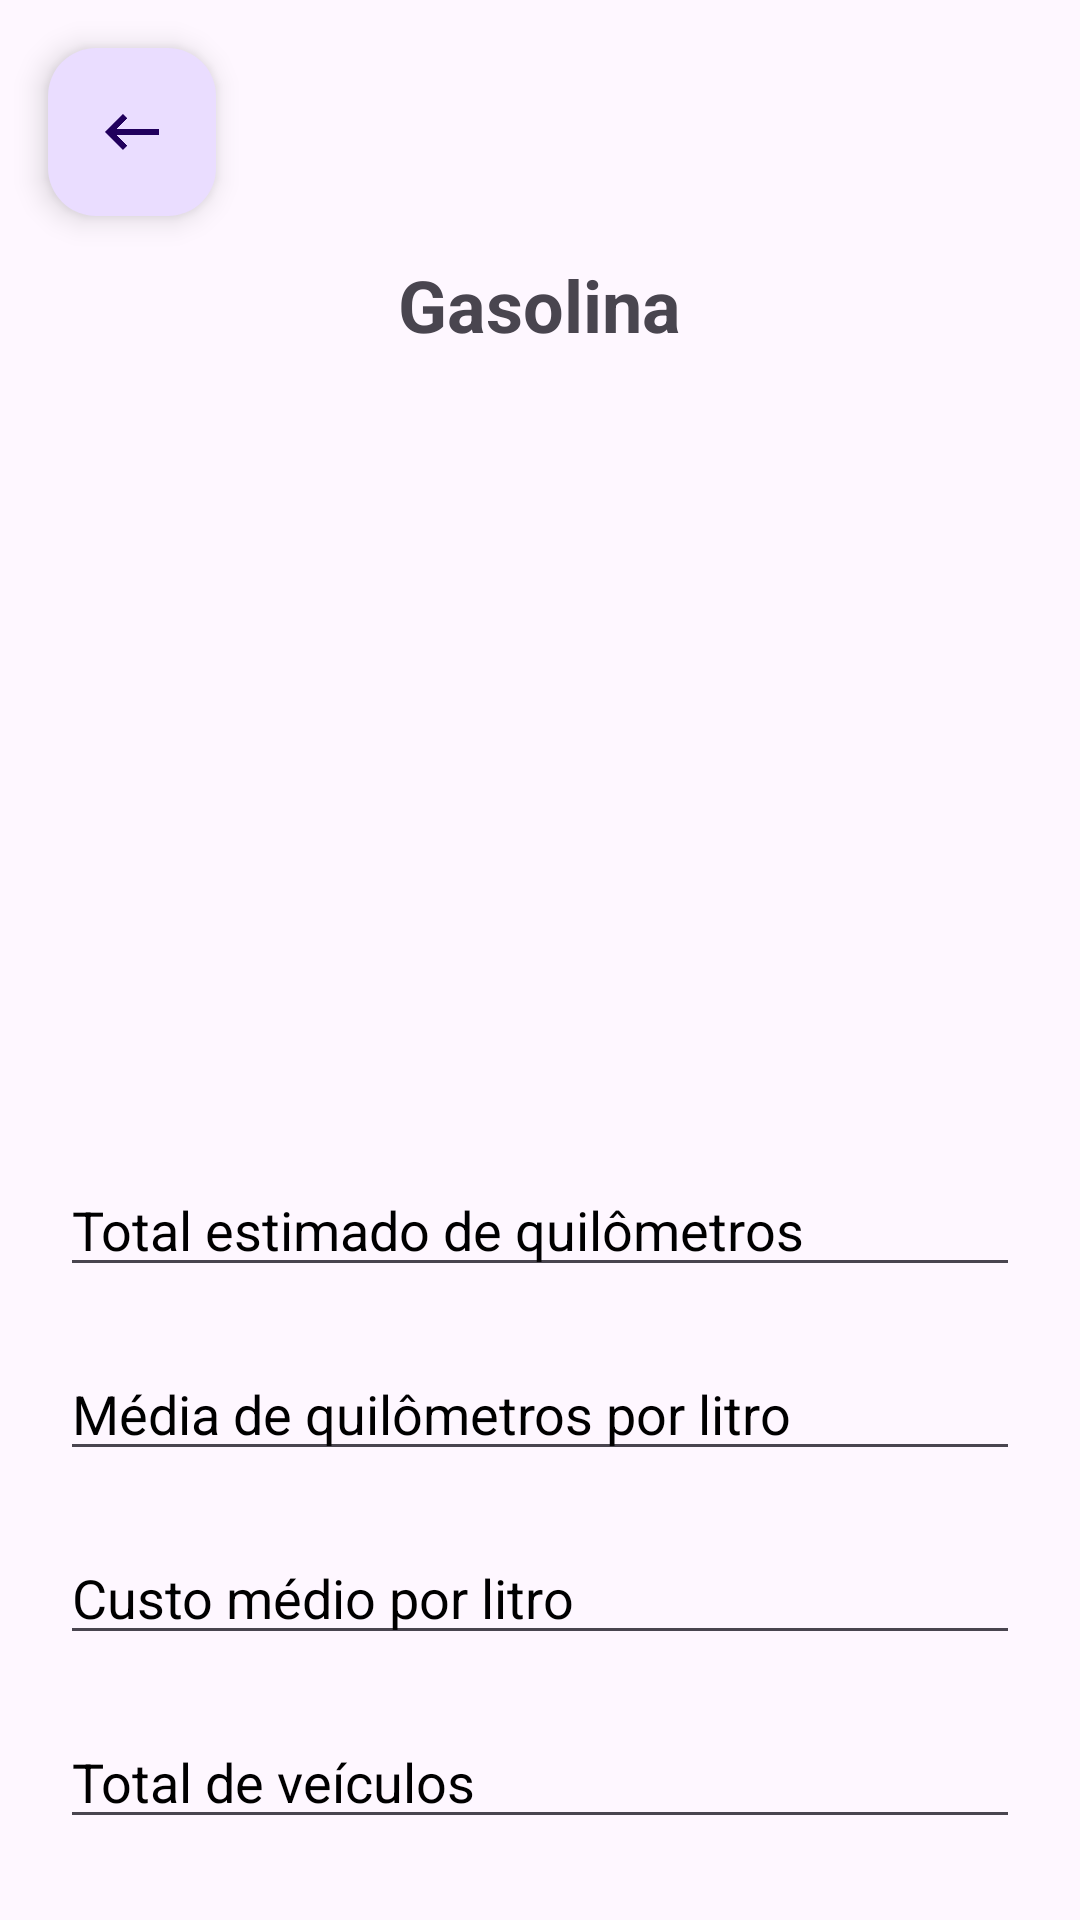

Icon click points for this 1080 x 1920 phone screenshot, format (x,y):
back arrow: (132,132)
